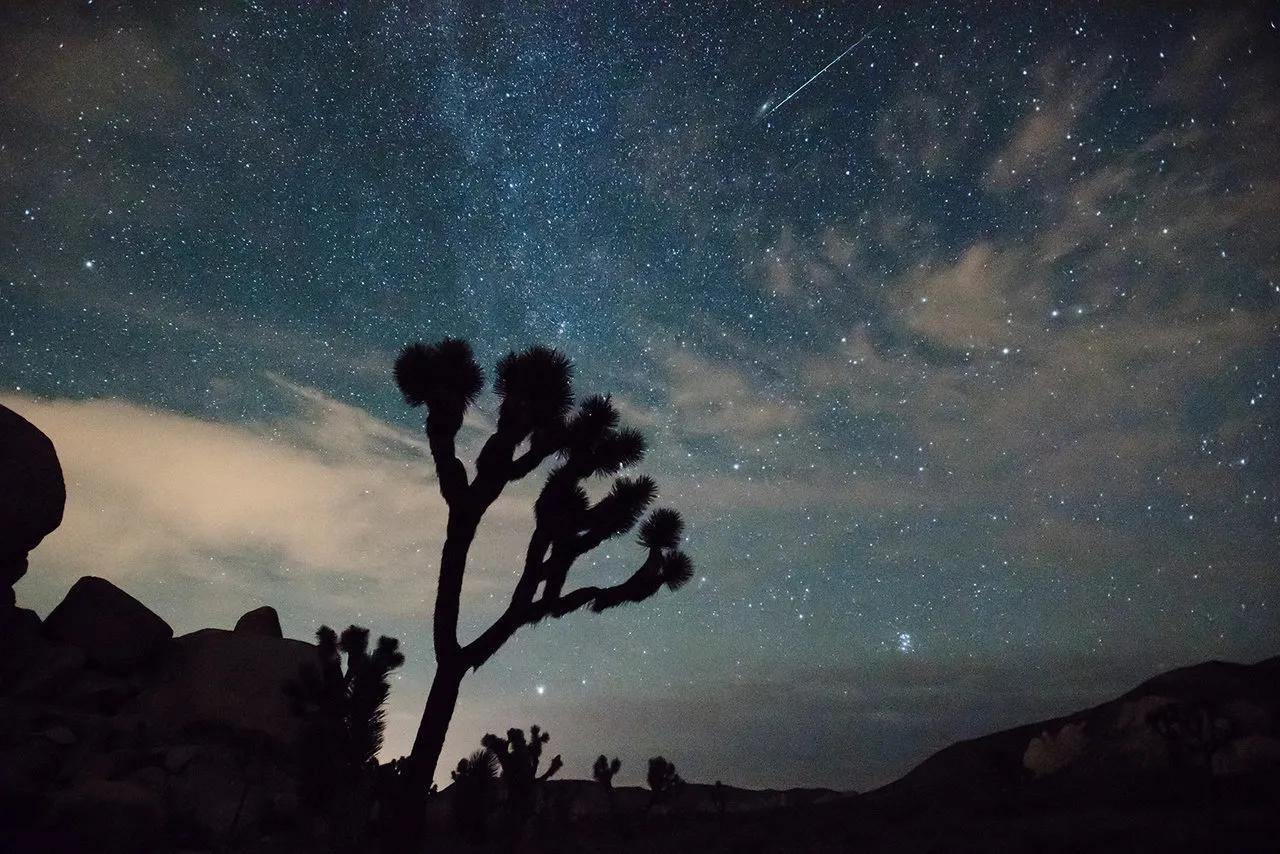meteorite: (735, 34, 881, 118)
